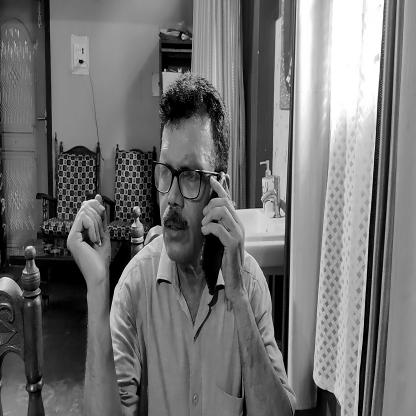Distracted: (152, 76, 227, 276)
